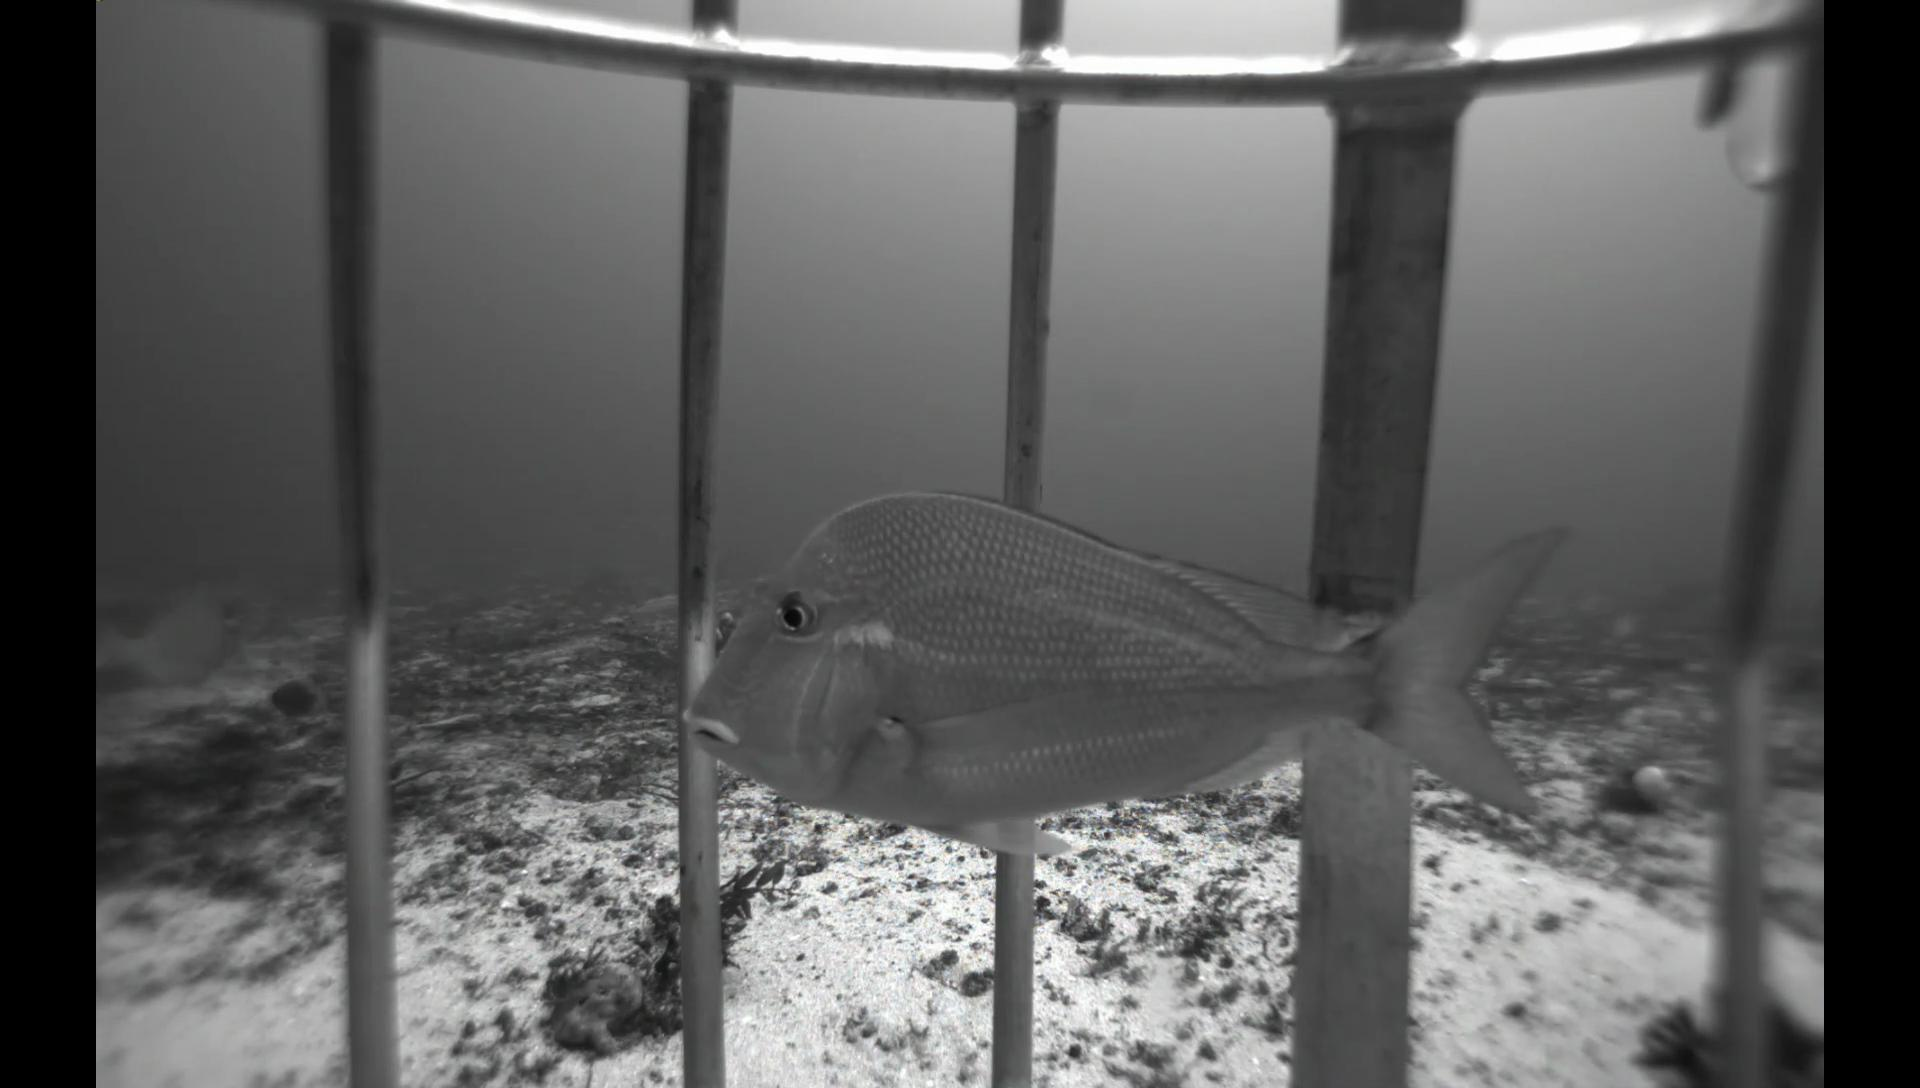CALAMUSNODOSUS-170210608: (96, 582, 251, 698)
CALAMUSPRORIDENS-170210605: (641, 434, 1577, 878)
CHAETODONOCELLATUS-170260307: (1602, 609, 1644, 649)
PRISTIGENYSALTA-170050401: (266, 677, 340, 731)
